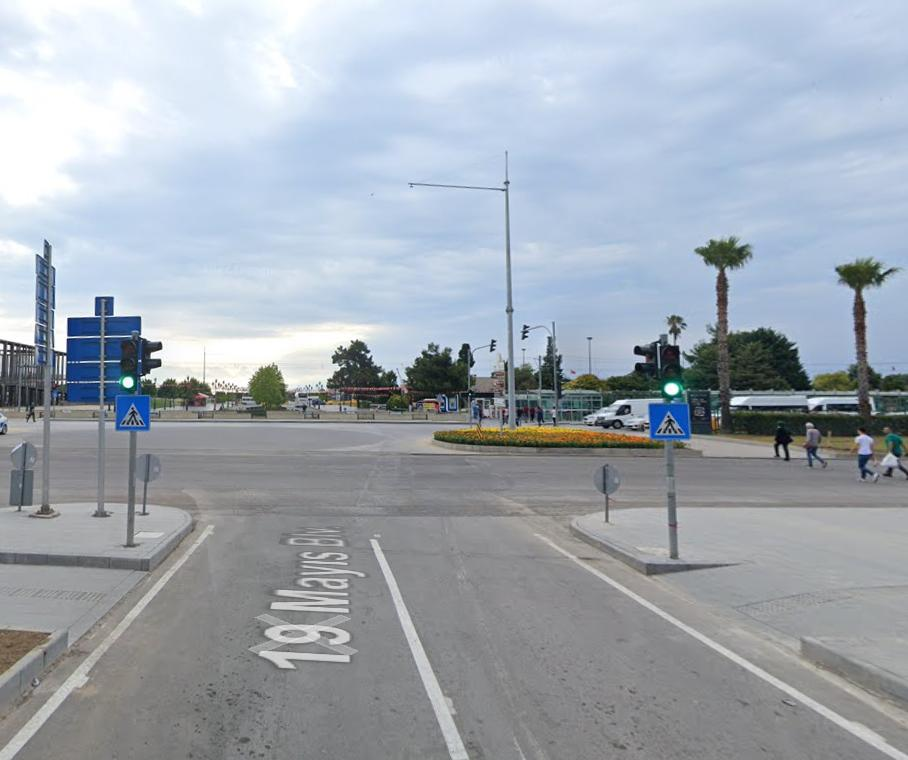greenlight: (658, 344, 686, 403), (119, 339, 142, 392)
